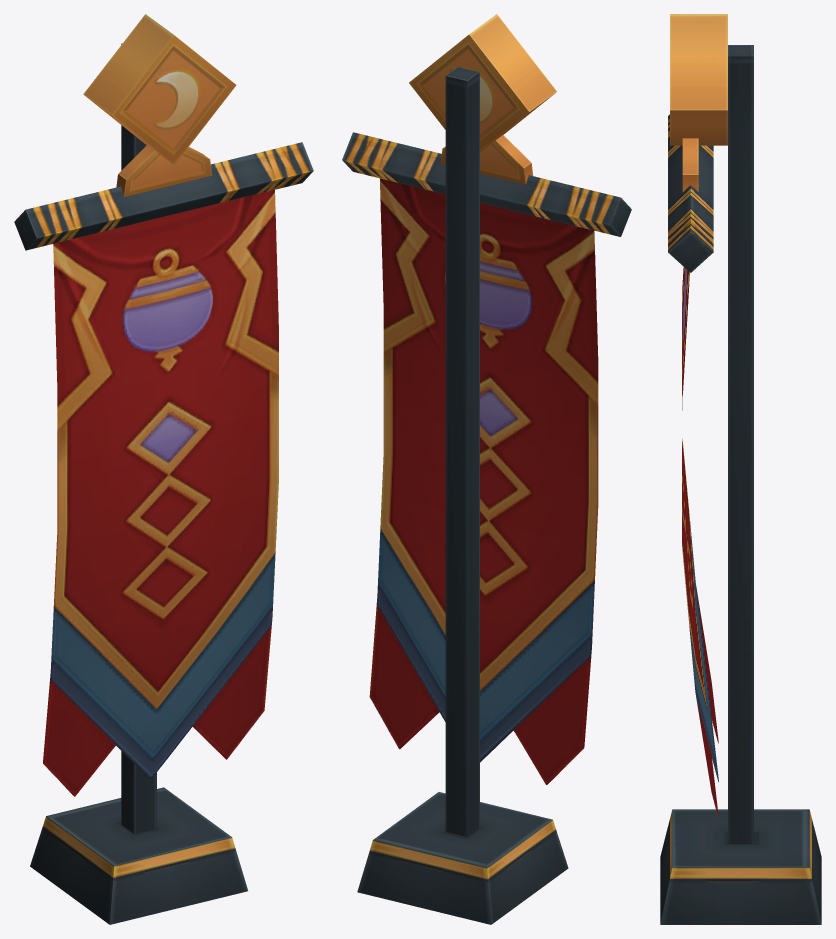
The model's file is D44_FLAG_02M.obj.
3 renders of one model, left to right at view 1: azimuth 30°, elevation 25°; view 2: azimuth 150°, elevation 25°; view 3: azimuth 270°, elevation 25°, orthographic. The views are drawn at different scales.
Parts seen in each view (by area): view 1: Dummy_root; view 2: Dummy_root; view 3: Dummy_root.
Part boxes in pixels (<box>): Dummy_root: <box>14,14,313,924</box>; Dummy_root: <box>342,14,631,924</box>; Dummy_root: <box>660,14,821,924</box>.
Size of the model in its own units: 1 by 3 by 0.5.
Materials: 1 (1 with a texture image).
